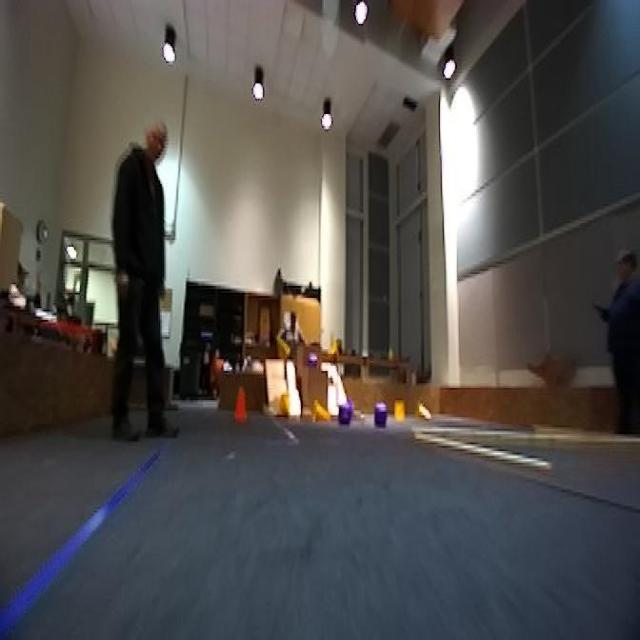frc_cone: (274, 330, 294, 361), (414, 400, 436, 420), (392, 398, 406, 422), (279, 392, 291, 418), (330, 328, 340, 356), (314, 402, 328, 420)
frc_cube: (340, 395, 353, 424), (373, 404, 387, 426), (305, 352, 320, 370)
